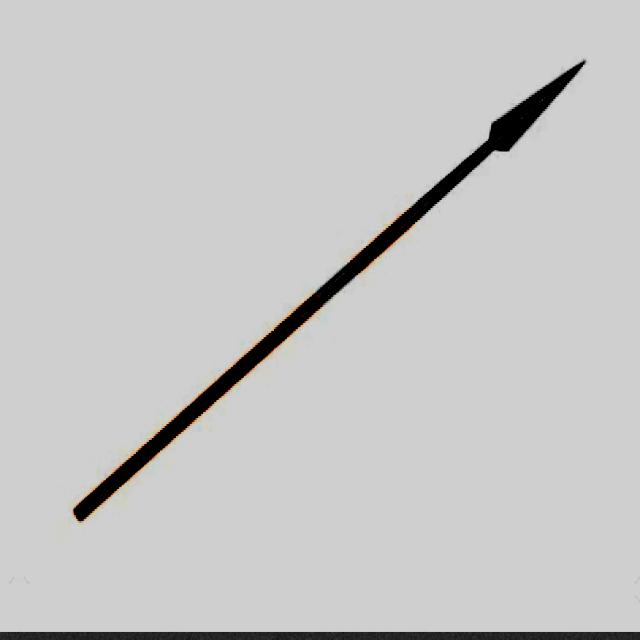spear: (58, 41, 602, 538)
